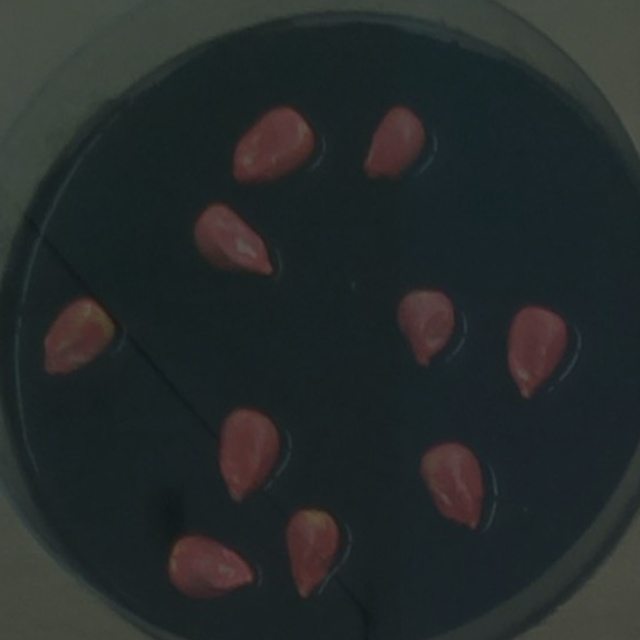Zea mays: (223, 98, 321, 193), (185, 195, 281, 288), (411, 433, 493, 541), (158, 525, 264, 608), (209, 401, 286, 514), (34, 289, 122, 386), (497, 300, 573, 410), (352, 99, 432, 191), (386, 281, 463, 376), (277, 504, 347, 607)
